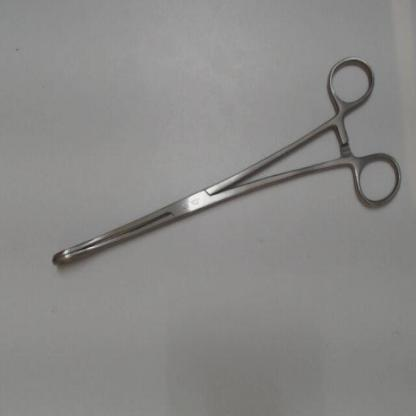Sponge Forceps: (44, 49, 408, 282)
